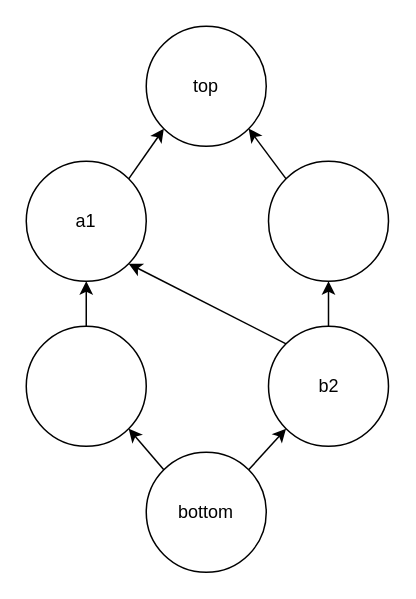
Some shapes in this 416 by 599 pixel diagram are drawn without their labels. Here are the shapes that lost their labels. From the top down, the centre of each, then its label:
At [327,220]: "b1".
At [85,385]: "a2".
